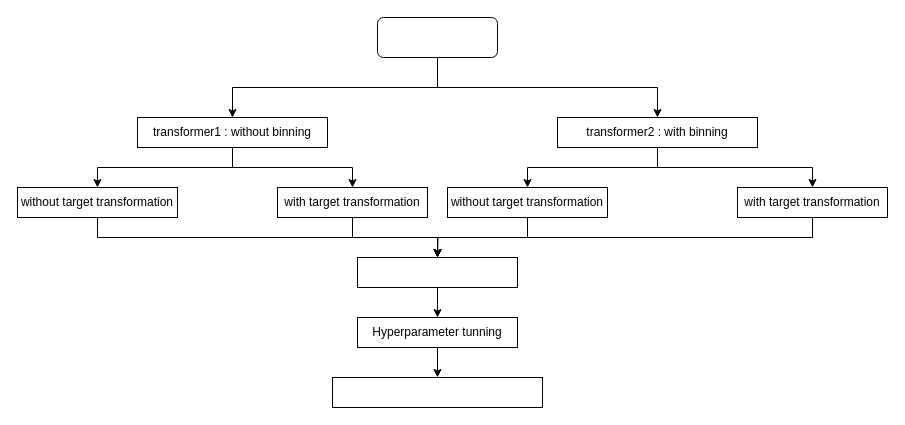
The diagram is 905 pixels wide and 425 high, and some of its shapes have lost their labels. The shapes that lost their labels are listed below. From the top down, each one's centre as x and y in pixels, then its label:
the point at 437,37: Data Clean
the point at 437,272: Best Model
the point at 437,392: Best Model after tunning parameter
